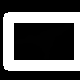plane: (7, 17, 75, 70)
